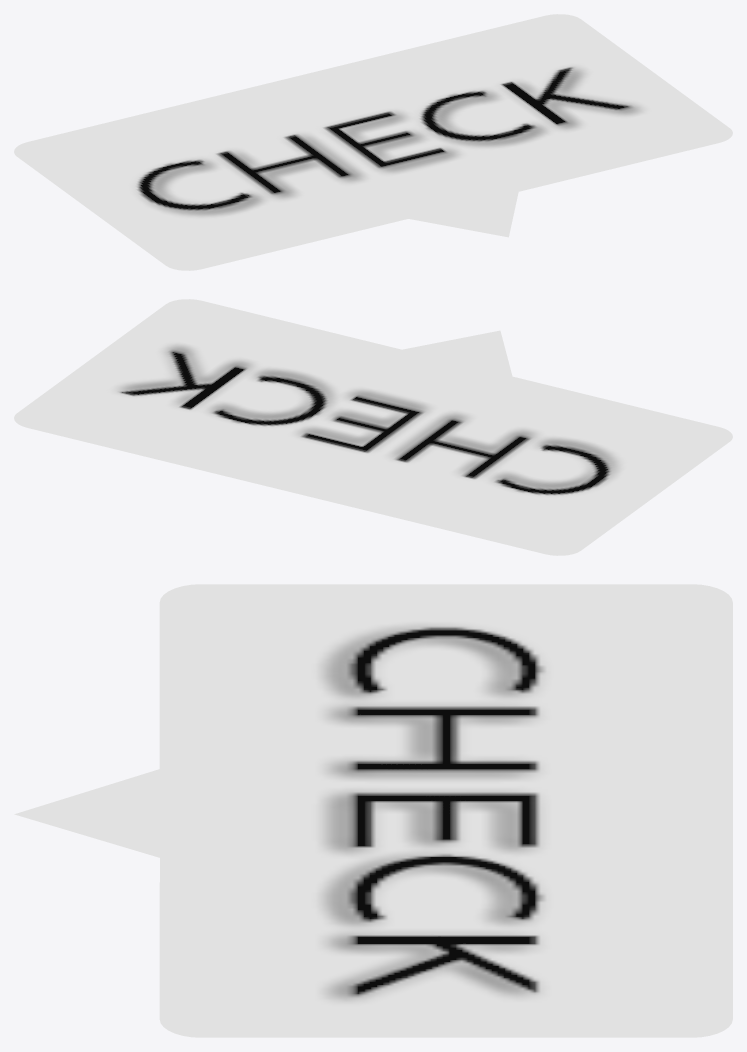
Rendered from HUD.FBX.
The picture shows the model from 3 angles, top to bottom: view 1: azimuth 30°, elevation 25°; view 2: azimuth 150°, elevation 25°; view 3: azimuth 270°, elevation 25°; orthographic projection. The views are drawn at different scales.
Parts seen in each view (by area): view 1: HUD_Check; view 2: HUD_Check; view 3: HUD_Check.
Boxes of the visible parts, x1,y1,x2,y2 form: HUD_Check: (14, 14, 732, 270); HUD_Check: (14, 299, 732, 555); HUD_Check: (14, 584, 732, 1037).
Size of the model in its own units: 0.0607 by 5.96e-11 by 0.0406.
1 material, 1 textured.
